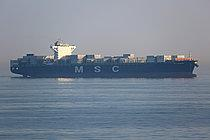Ship: (9, 37, 202, 82)
